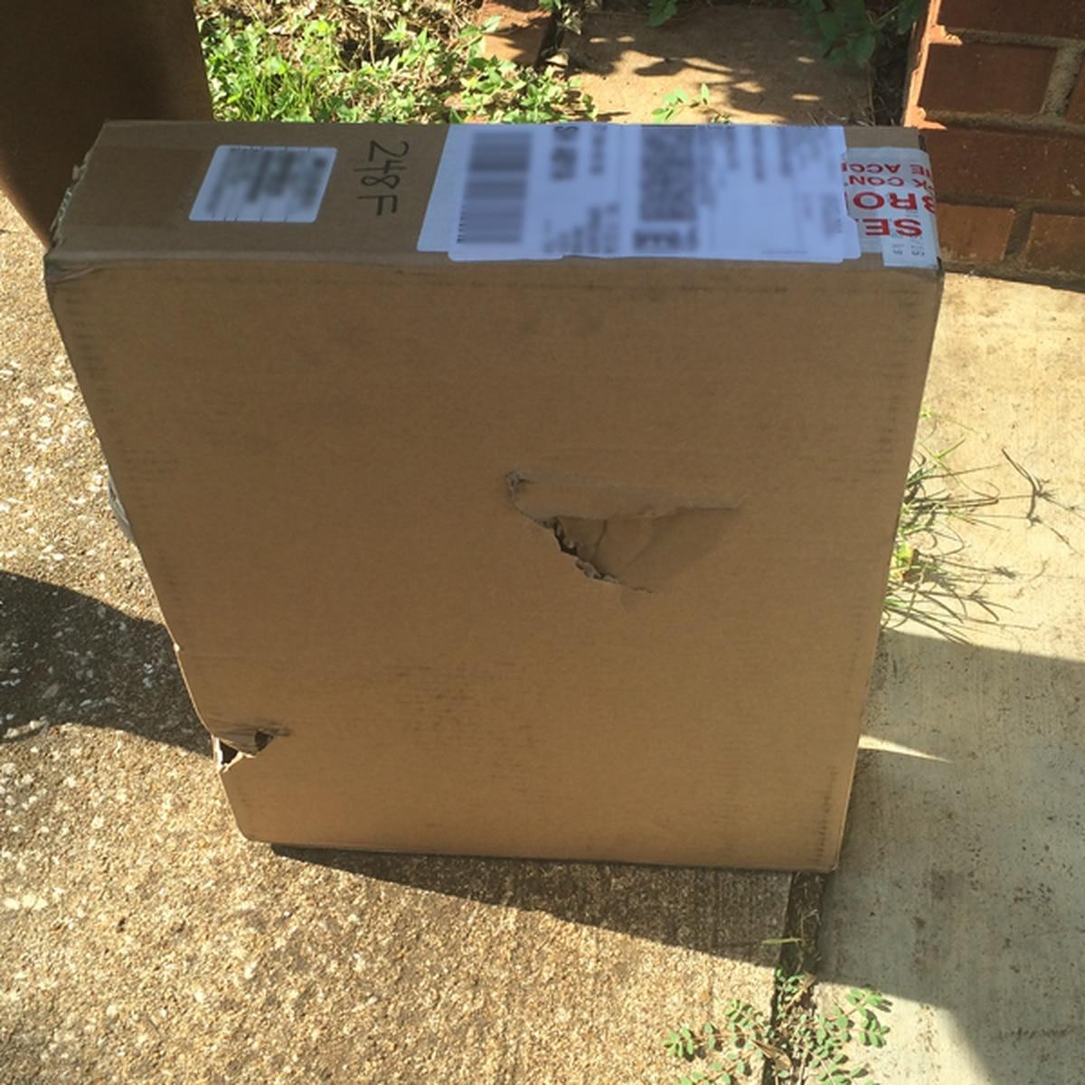damaged package: (484, 461, 750, 626), (200, 714, 300, 788)
undamaged: (24, 97, 970, 877)
